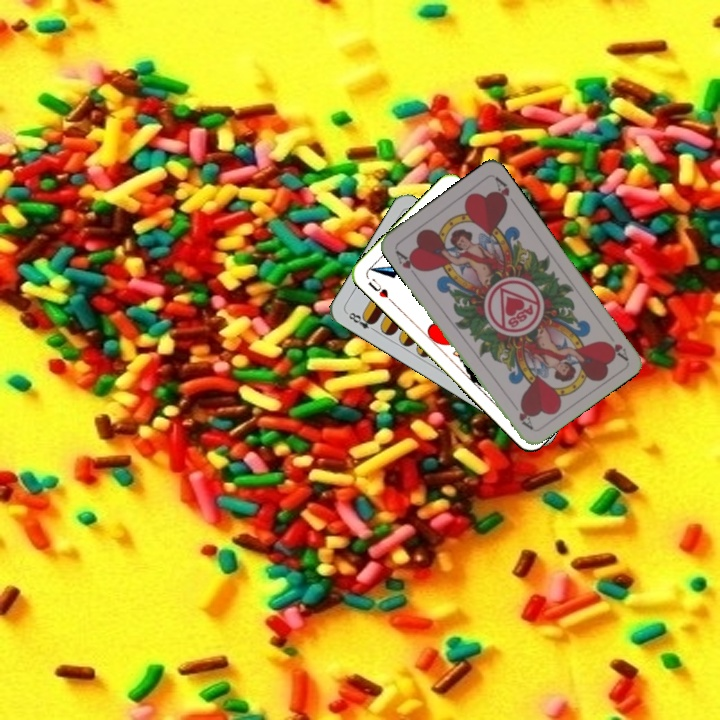E8: (343, 308, 379, 335)
HA: (391, 246, 424, 280), (601, 337, 630, 362)
HU: (364, 274, 395, 305)
